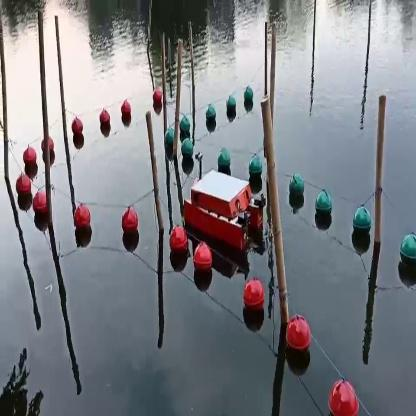green_buoy: (348, 201, 374, 245), (288, 176, 308, 216), (399, 231, 415, 276), (315, 189, 332, 227), (247, 156, 266, 184), (222, 96, 236, 122), (217, 146, 229, 172), (204, 104, 216, 128), (180, 115, 192, 138), (182, 140, 192, 166), (242, 84, 251, 108), (165, 130, 172, 156)
red_buoy: (326, 376, 362, 414), (284, 313, 311, 358), (244, 282, 266, 318), (194, 240, 213, 279), (170, 224, 188, 258), (74, 205, 91, 236), (122, 211, 140, 239), (32, 188, 46, 218), (122, 101, 134, 128), (74, 119, 85, 148), (16, 176, 29, 200), (100, 106, 110, 134), (23, 148, 34, 168), (154, 85, 160, 110)
